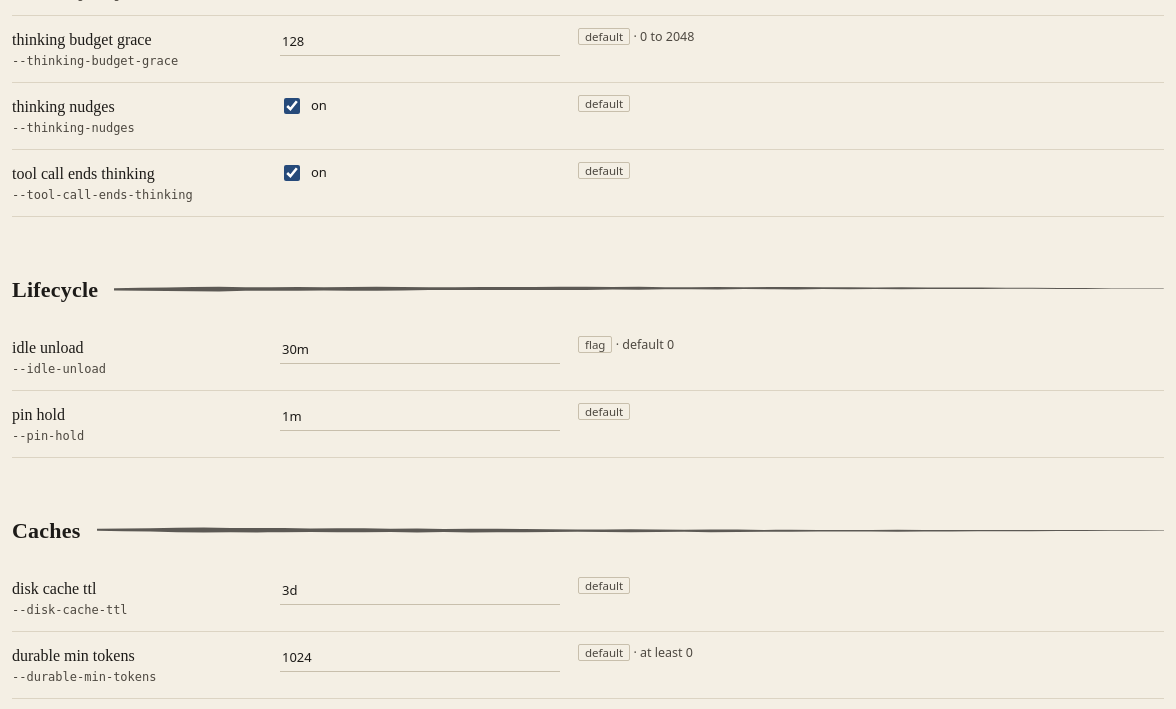
Test case: SettingsView › a refused duration shows lily's parser message
(page scrolled)
Replace the text in the field named "idle unload" with "5x" at {"x": 420, "y": 350}, box [280, 336, 560, 364]
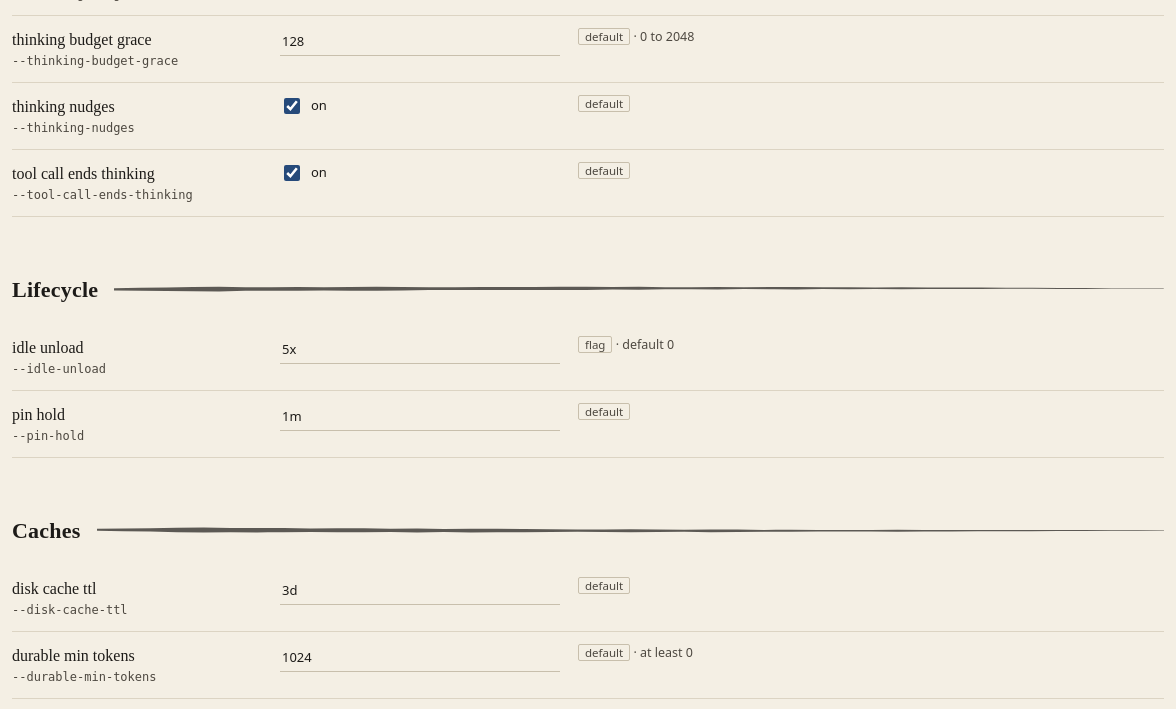
Press Enter in the field named "idle unload", box [280, 336, 560, 364]
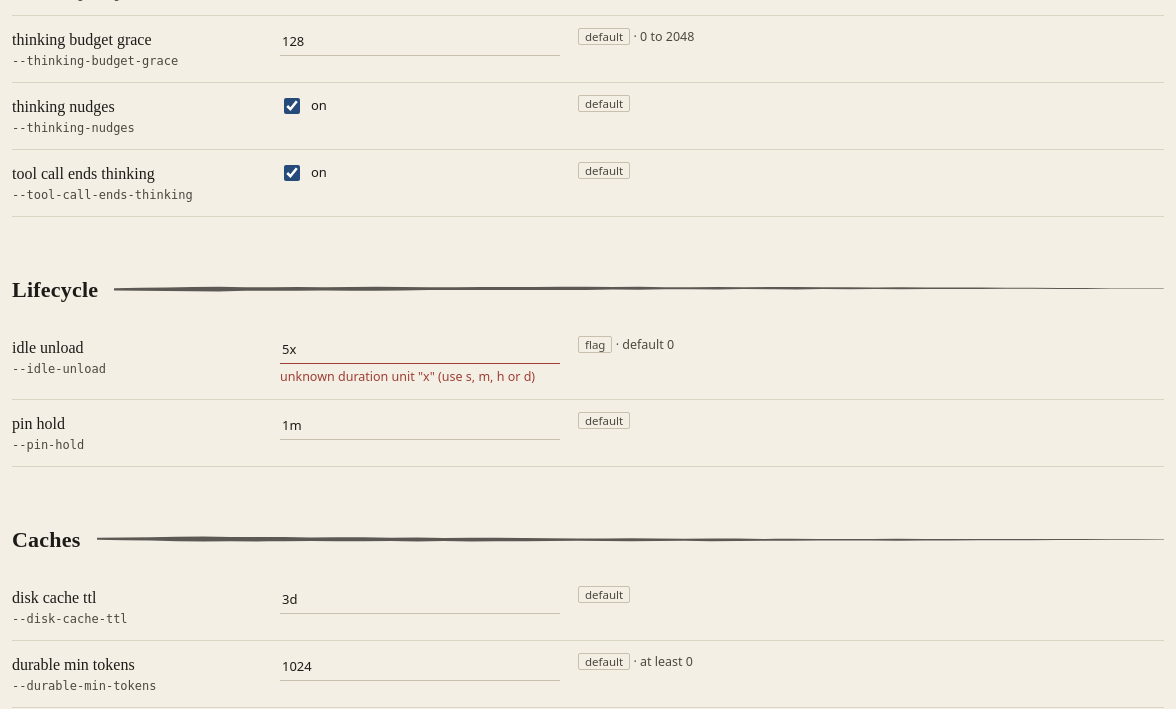
Expected: the message "unknown duration unit \"x\" (use s, m, h or d)" reads "unknown duration unit \"x\" (use s, m, h or d)", [280, 368, 535, 385]
